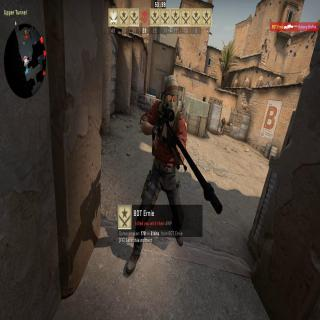T-Body: (129, 78, 192, 275), (220, 116, 225, 132)
T-Head: (162, 79, 180, 112), (223, 117, 225, 119)
